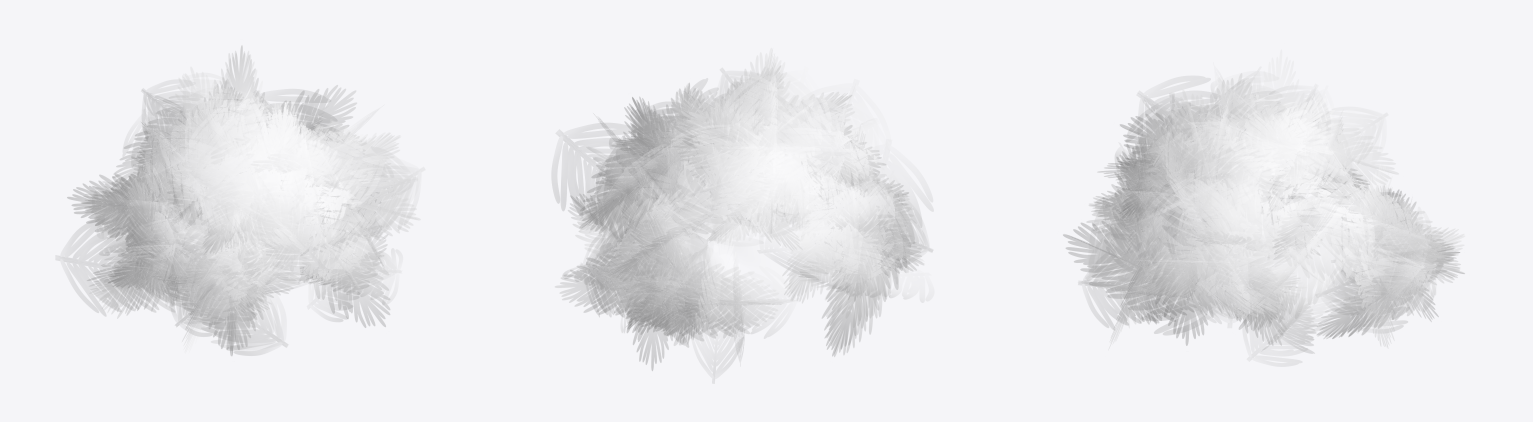
Rendered from bush.glb.
3 renders of one model, left to right at view 1: azimuth 30°, elevation 25°; view 2: azimuth 150°, elevation 25°; view 3: azimuth 270°, elevation 25°, orthographic. The views are drawn at different scales.
Parts seen in each view (by area): view 1: Bush01_LOD0; view 2: Bush01_LOD0; view 3: Bush01_LOD0.
Part boxes in pixels (x1,y1,x2,y2): Bush01_LOD0: (59, 45, 424, 355); Bush01_LOD0: (552, 48, 933, 376); Bush01_LOD0: (1063, 50, 1464, 366).
Size of what is drawn, in the model's own units: 2.45 by 1.85 by 2.47.
Materials: 1 (1 with a texture image).
